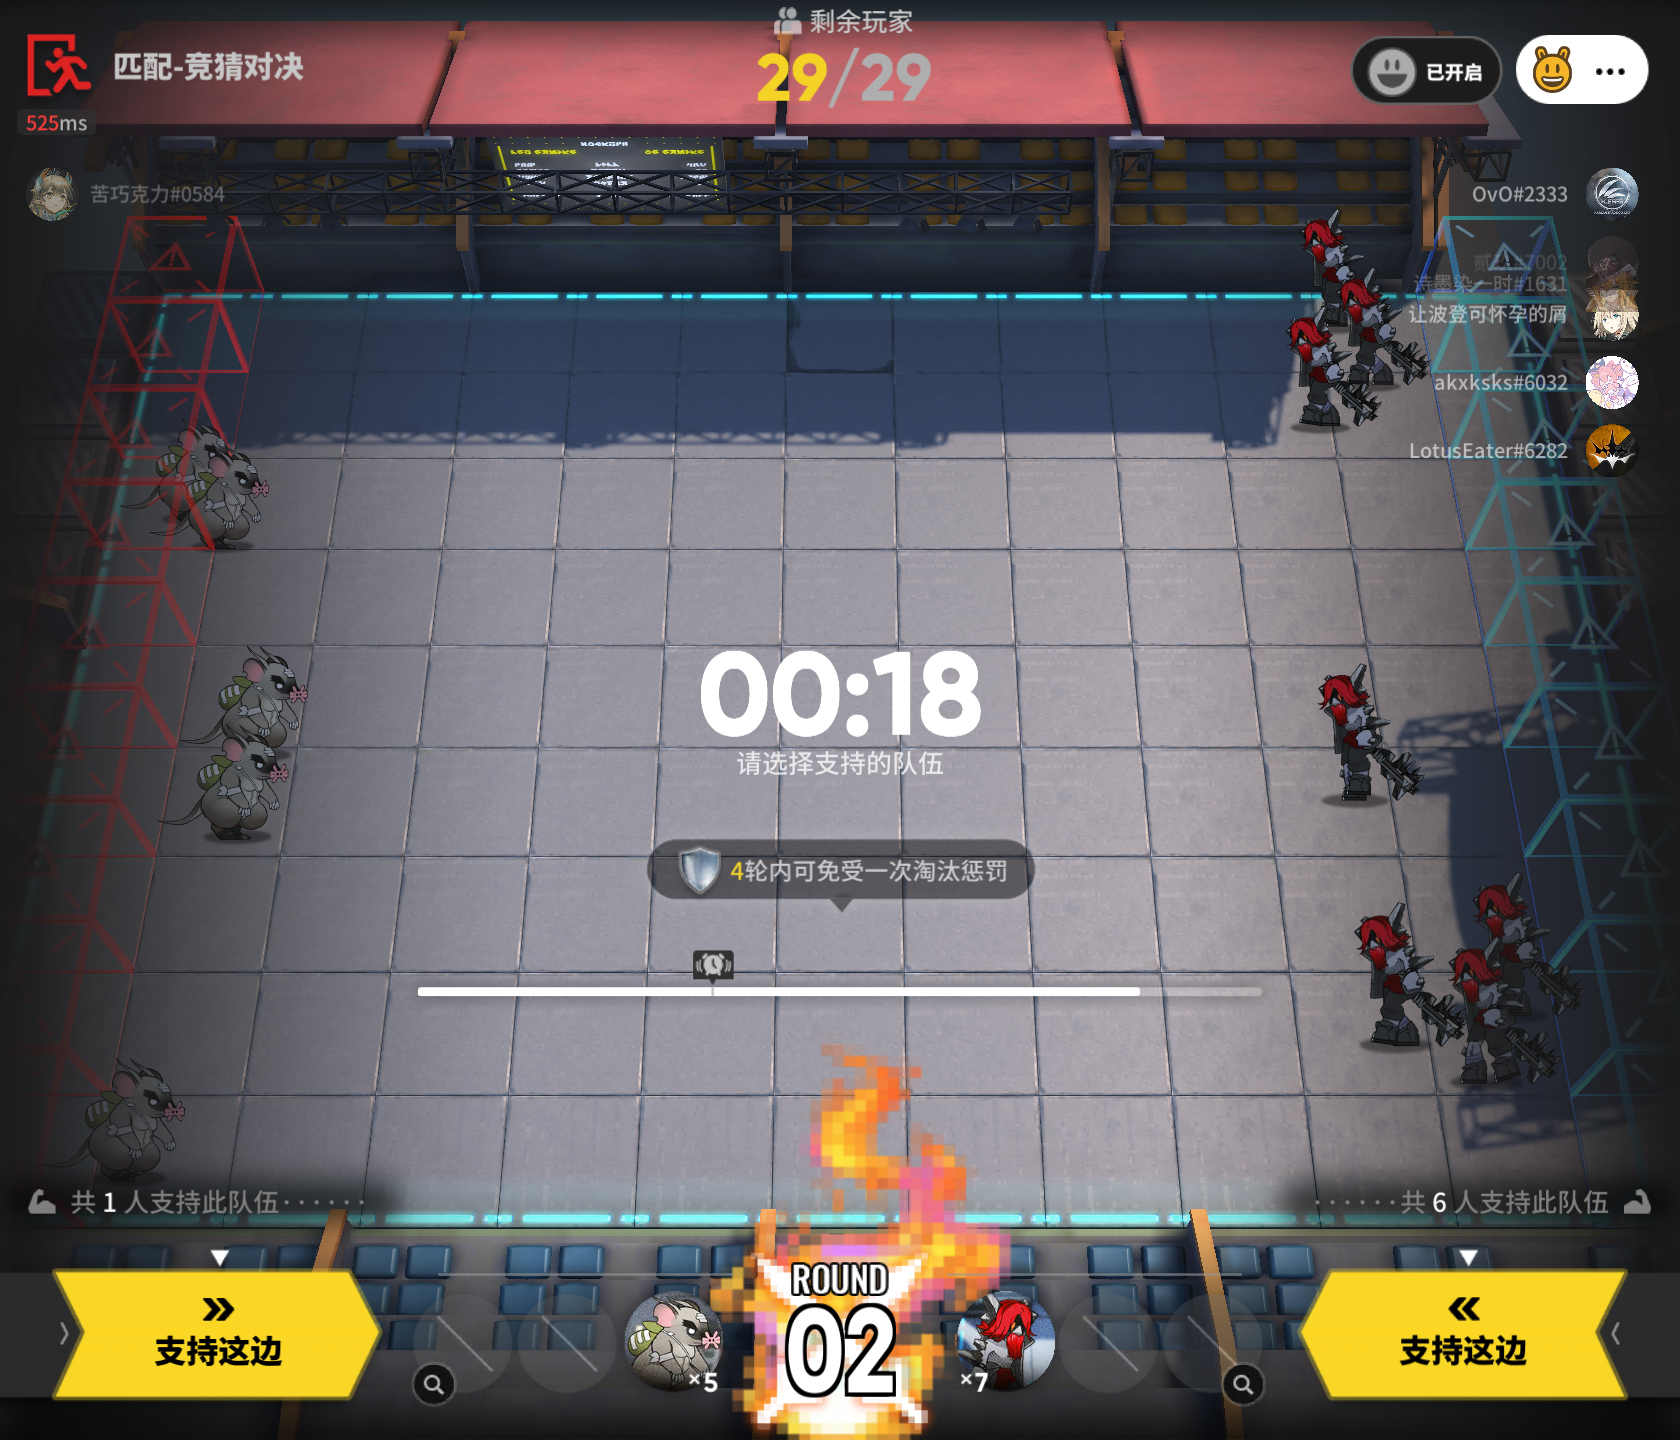源石的腿脚: (1304, 659, 1437, 810), (1444, 939, 1567, 1091), (1353, 906, 1470, 1061), (1481, 873, 1586, 1027), (1331, 273, 1441, 399), (1281, 319, 1389, 441), (953, 1284, 1061, 1394), (1297, 211, 1394, 327)
硕鼷: (70, 1061, 201, 1206), (170, 736, 299, 857), (207, 640, 311, 756), (144, 419, 254, 526), (629, 1289, 734, 1391), (190, 450, 277, 554)
